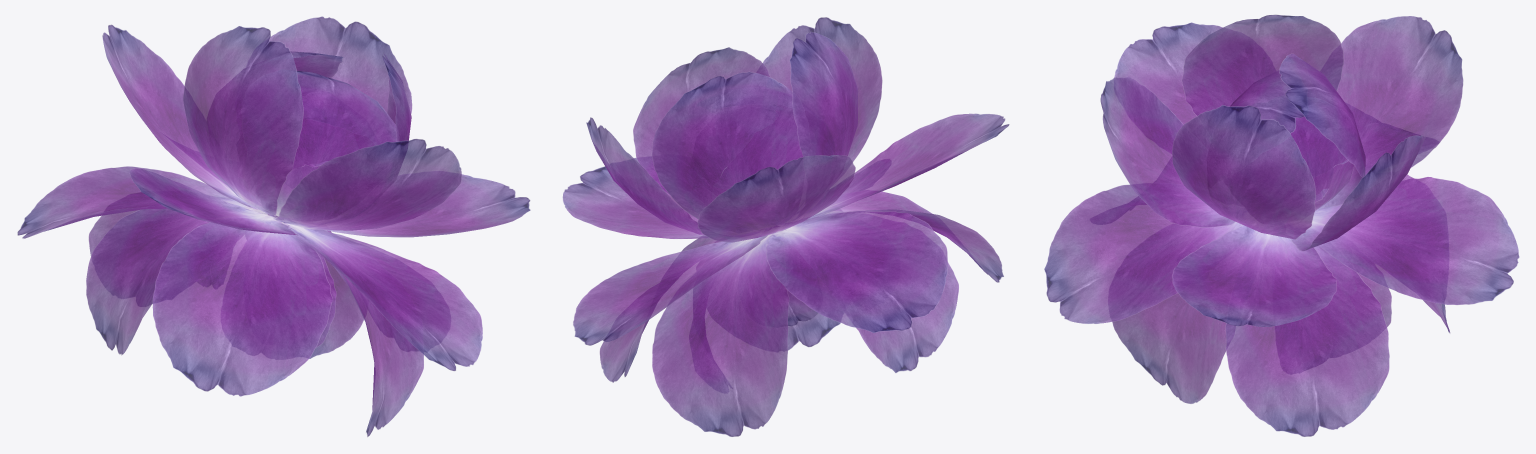
File: flower-bloom-90.glb
The picture shows the model from 3 angles, left to right: view 1: azimuth 30°, elevation 25°; view 2: azimuth 150°, elevation 25°; view 3: azimuth 270°, elevation 25°; orthographic projection. The views are drawn at different scales.
Parts seen in each view (by area): view 1: timeshift4; view 2: timeshift4; view 3: timeshift4.
Boxes of the visible parts, x1,y1,x2,y2 form: timeshift4: (17,16,530,436); timeshift4: (562,17,1009,436); timeshift4: (1044,14,1519,436).
Size of the model in its own units: 6.04 by 5.02 by 6.09.
Materials: 1 (1 with a texture image).
